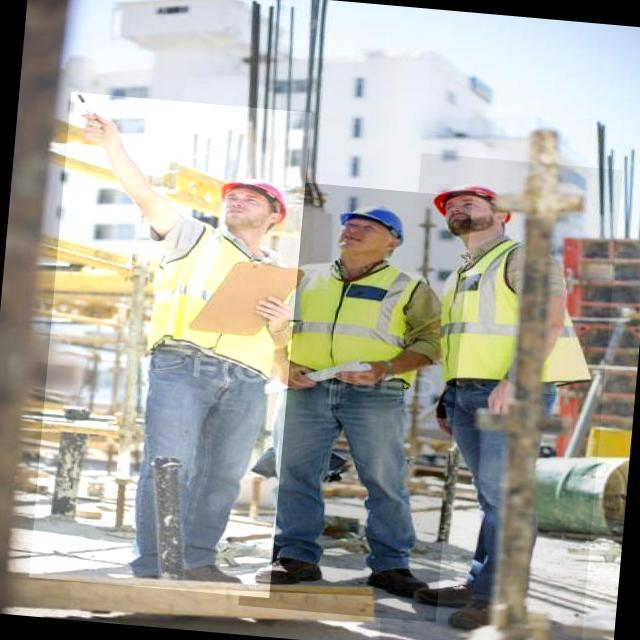Helmet: (430, 179, 515, 225), (218, 174, 291, 224), (336, 201, 407, 246)
Person: (59, 88, 304, 600), (416, 165, 616, 640), (278, 190, 443, 640)
Safety Boot: (253, 553, 324, 590), (414, 572, 479, 610), (365, 564, 431, 600), (447, 592, 493, 632), (183, 558, 246, 586)
Safety Vest: (433, 235, 603, 395), (144, 217, 285, 379), (279, 258, 425, 391)
bare-arms: (72, 105, 120, 150), (254, 291, 292, 336), (339, 359, 380, 400), (486, 369, 520, 416), (285, 359, 323, 400), (434, 389, 453, 434)
